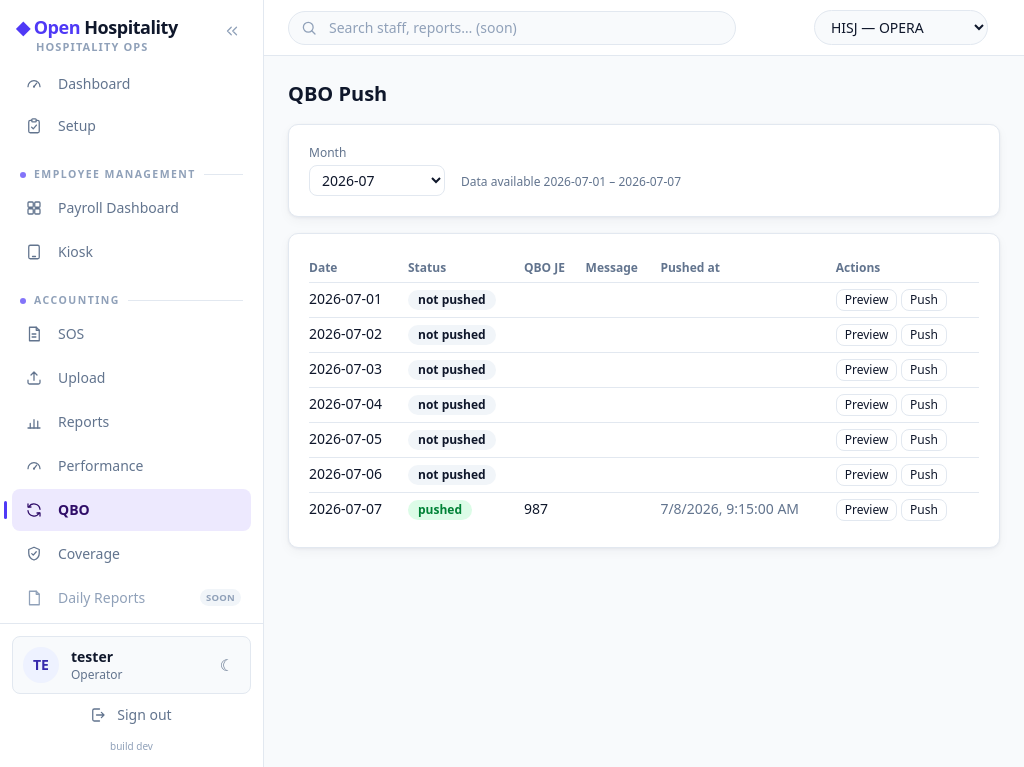
Scenario: QboPage push flow › pushes only after the confirm dialog restating the plan totals
Click the button with aria-label "Push 2026-07-07" at (924, 510), box [901,499,947,521]
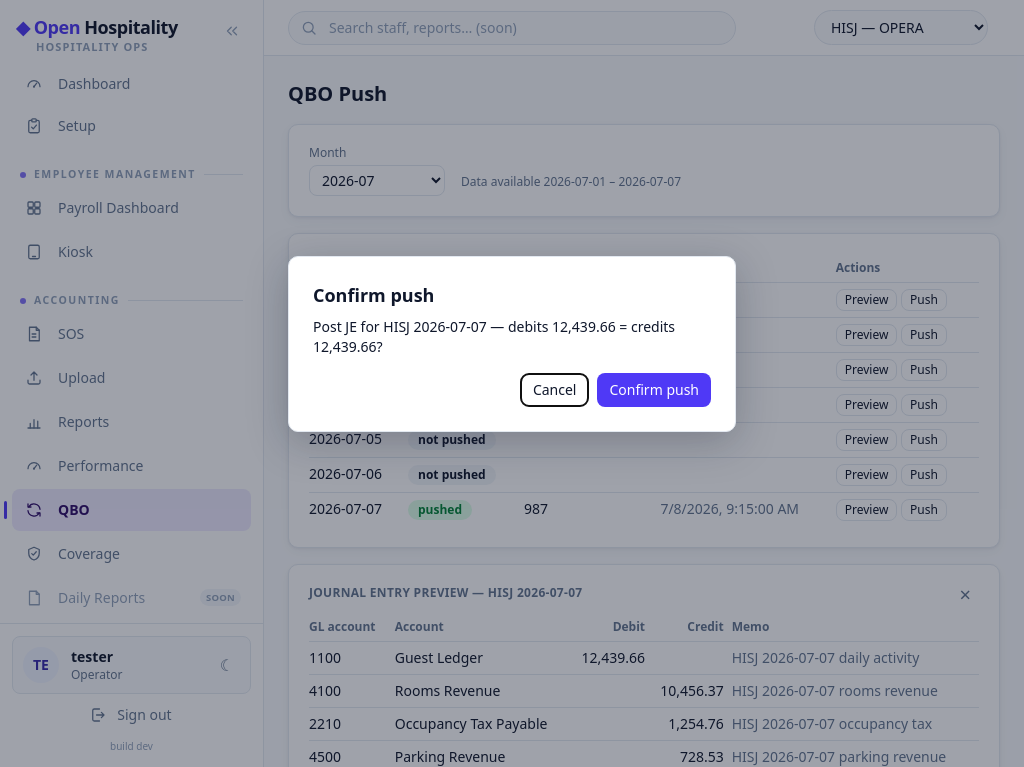
Expected: the text "Post JE for HISJ 2026-07-07 — debits 12,439.66 = credits 12,439.66?" is shown, [313,317,711,357]
Click the button "Confirm push" at (654, 390), box [598,373,711,407]
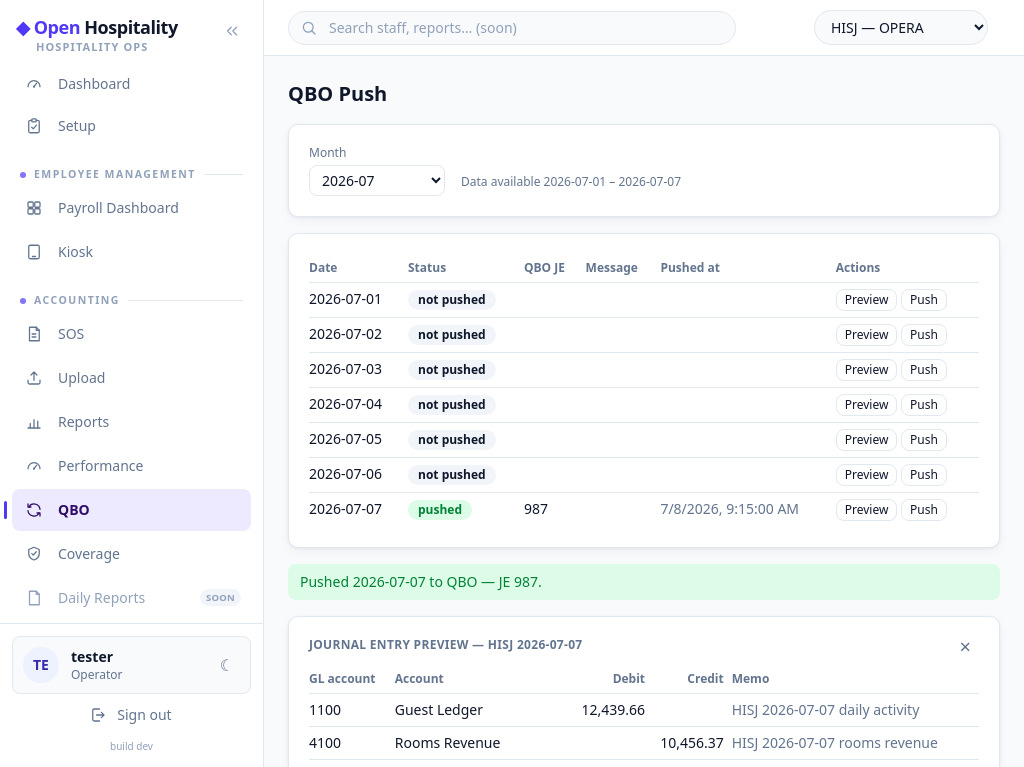
Expected: the dialog is gone
